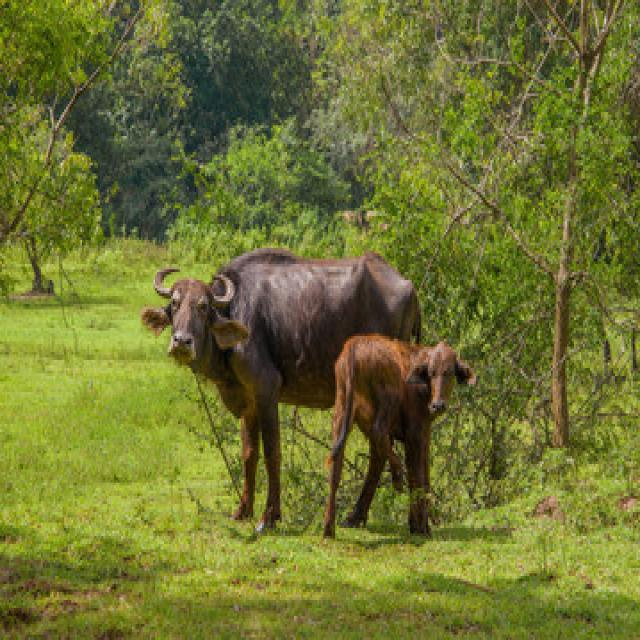Buffalo: (131, 244, 330, 521)
